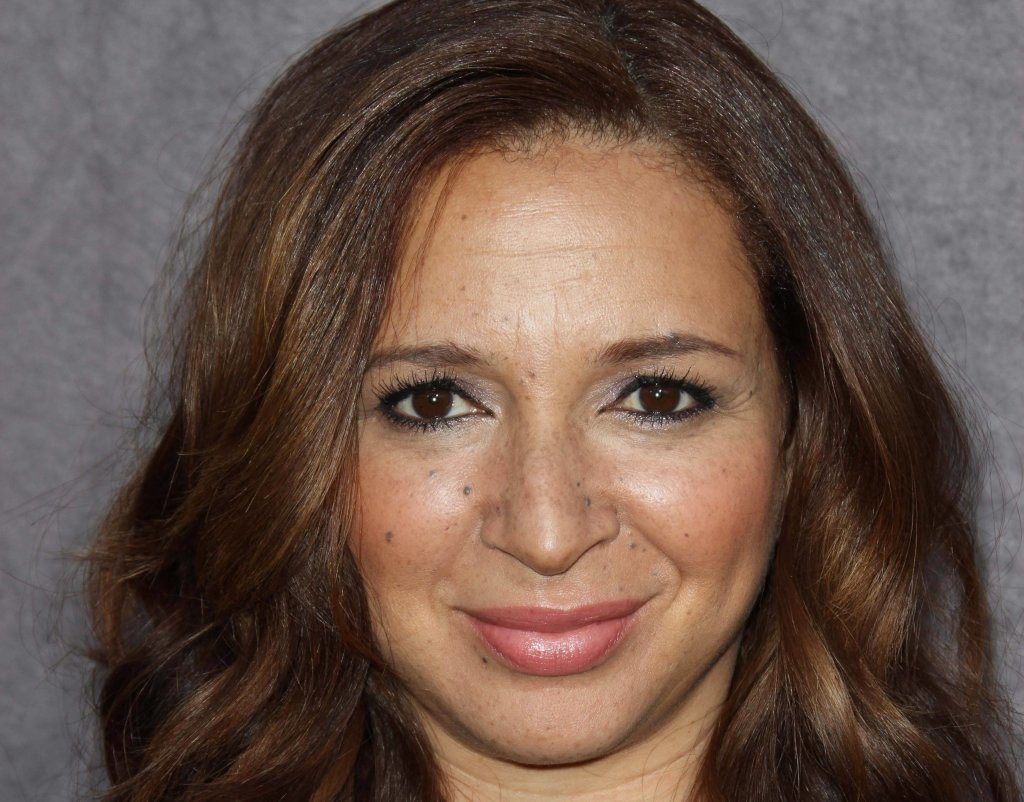tahilalat: (581, 493, 597, 510), (384, 529, 396, 545), (460, 485, 474, 496), (458, 212, 472, 223), (574, 477, 585, 489), (427, 468, 438, 479), (478, 654, 488, 666), (682, 529, 692, 539), (627, 540, 638, 549), (527, 369, 538, 378), (519, 376, 528, 386), (459, 283, 468, 292), (503, 353, 511, 362)
